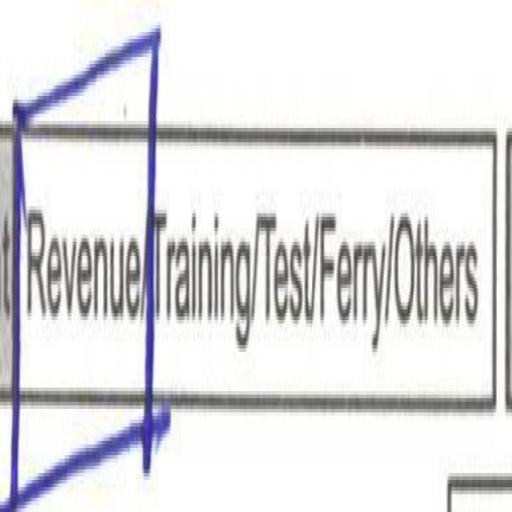check: (5, 20, 146, 512)
